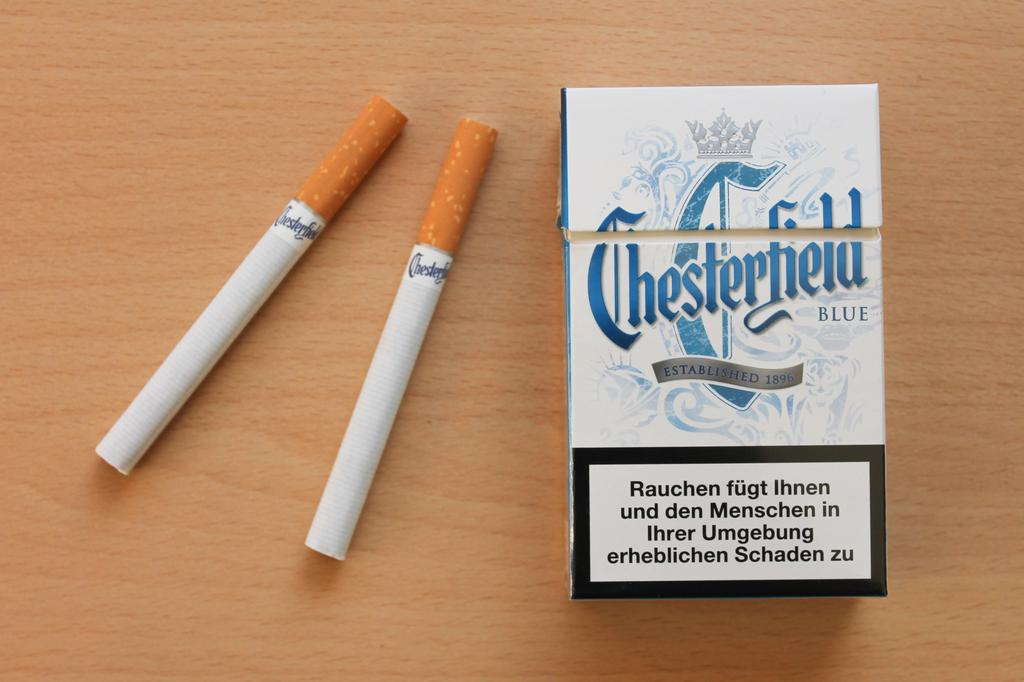chesterfield_blue: (565, 90, 884, 597)
